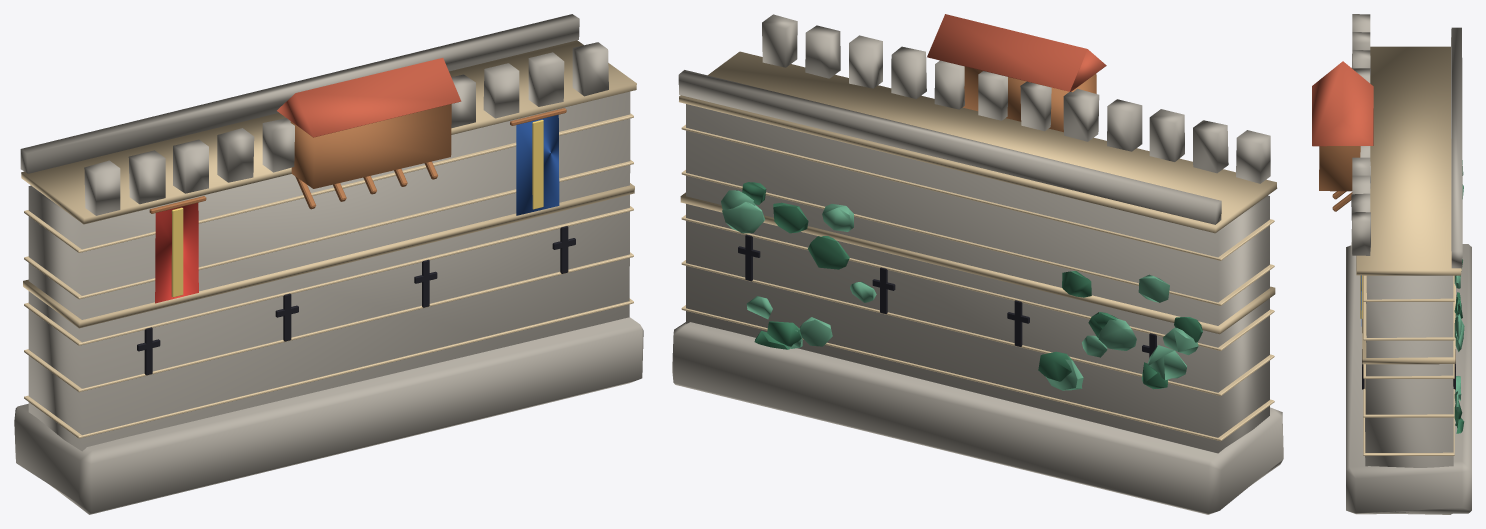
Rendered from castle_wall.glb.
3 renders of one model, left to right at view 1: azimuth 30°, elevation 25°; view 2: azimuth 150°, elevation 25°; view 3: azimuth 270°, elevation 25°, orthographic. The views are drawn at different scales.
Visible parts, largest first — view 1: castle_wall; view 2: castle_wall; view 3: castle_wall.
Boxes of the visible parts, left/top/right/bottom form: castle_wall: left=14, top=14, right=643, bottom=514; castle_wall: left=672, top=14, right=1283, bottom=514; castle_wall: left=1312, top=14, right=1471, bottom=514.
Size of the model in its own units: 20.4 by 13.08 by 6.02.
1 material, 1 textured.
